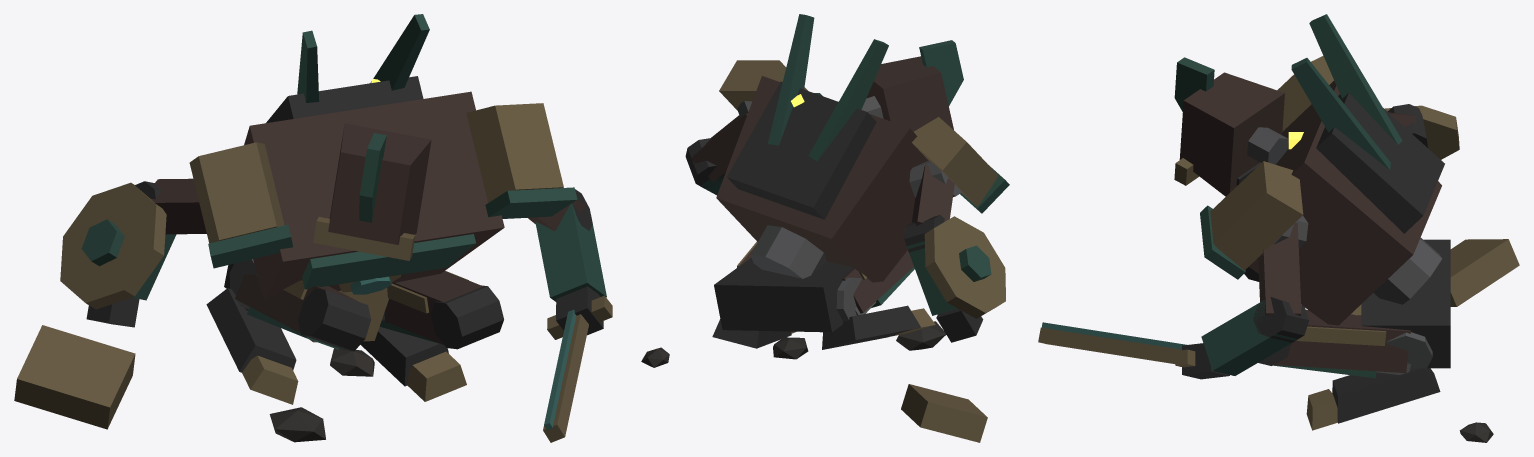
File: sentry_husk.glb
3 renders of one model, left to right at view 1: azimuth 30°, elevation 25°; view 2: azimuth 150°, elevation 25°; view 3: azimuth 270°, elevation 25°, orthographic. The views are drawn at different scales.
Visible parts, largest first — view 1: HUSK_Sentry_Mesh; view 2: HUSK_Sentry_Mesh; view 3: HUSK_Sentry_Mesh.
Part boxes in pixels (<box>): HUSK_Sentry_Mesh: <box>14,14,612,442</box>; HUSK_Sentry_Mesh: <box>641,14,1009,442</box>; HUSK_Sentry_Mesh: <box>1038,14,1519,442</box>.
Size of the model in its own units: 1.65 by 1.33 by 1.62.
